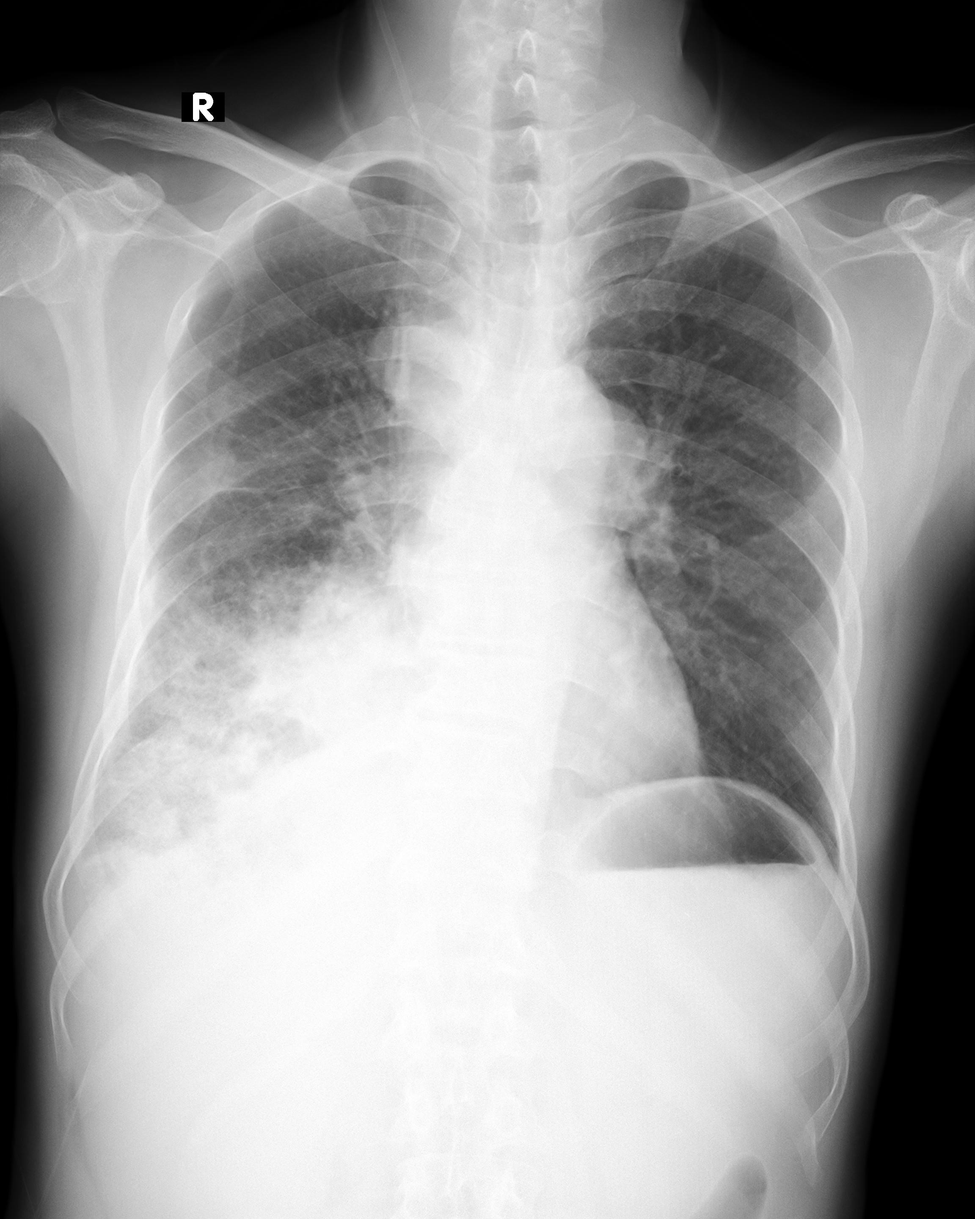Aortic enlargement: (541, 367, 653, 546)
